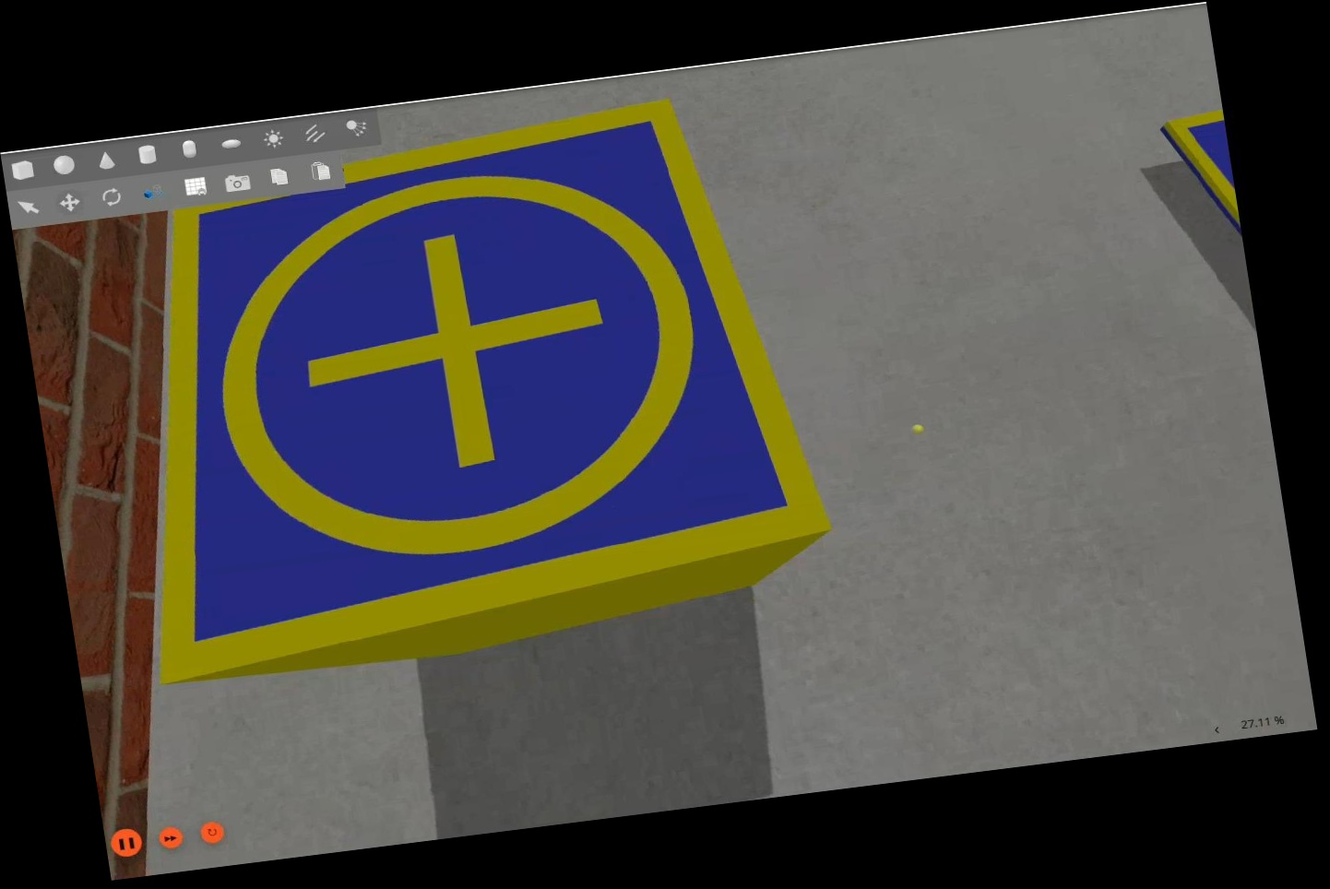small_base: (83, 87, 843, 690)
